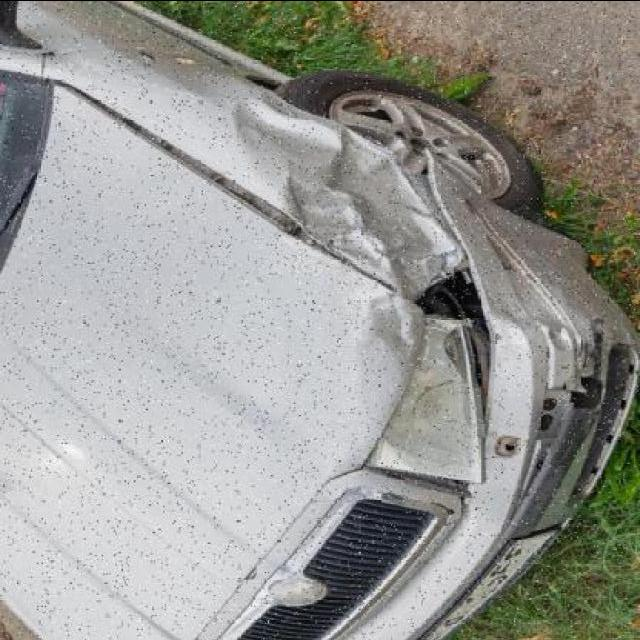Headlight-Damage: (348, 305, 499, 483)
fender-dent: (236, 57, 526, 288)
front-bumper-dent: (436, 148, 630, 601)
